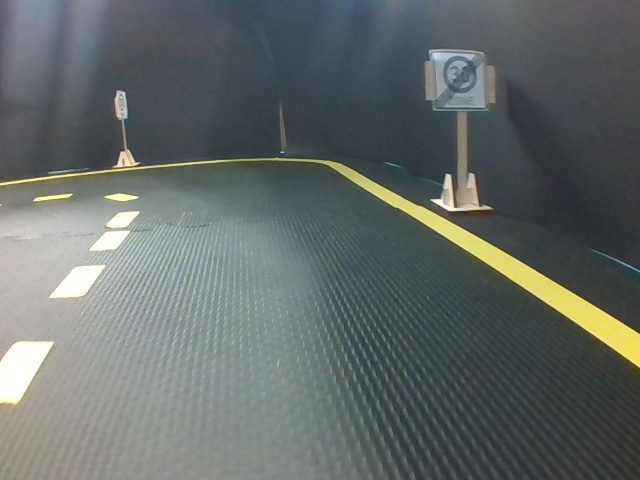30: (116, 90, 126, 117)
no30: (432, 48, 484, 110)
